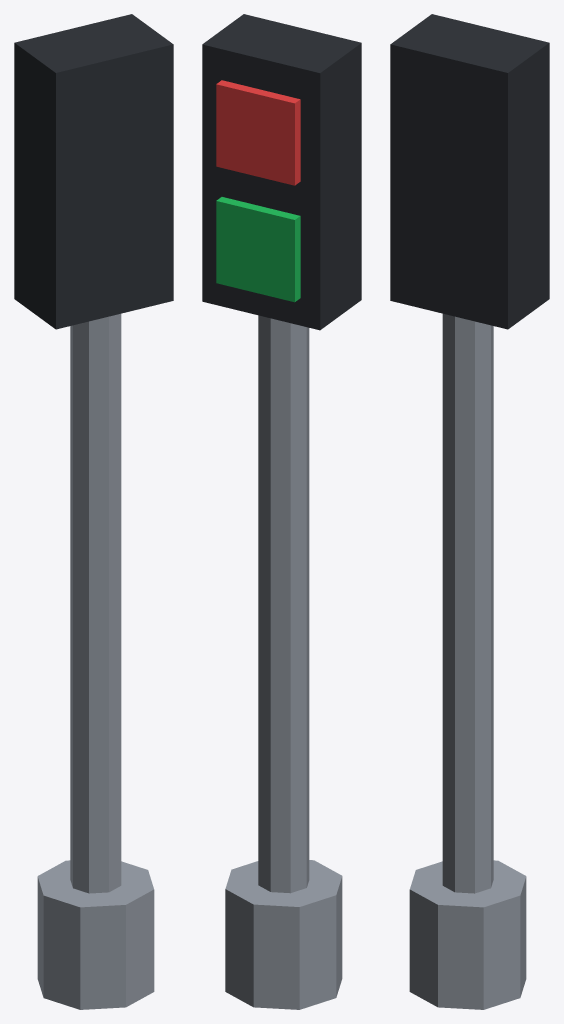
The model's file is traffic_light_ped.glb.
3 views of the same model, side by side, from view 1: azimuth 30°, elevation 25°; view 2: azimuth 150°, elevation 25°; view 3: azimuth 330°, elevation 25° (orthographic).
Visible parts, largest first — view 1: Body; view 2: Body, LampGreen, LampRed; view 3: Body.
Boxes of the visible parts, x1,y1,x2,y2 form: Body: [14, 14, 173, 1009]; Body: [202, 14, 361, 1009]; LampGreen: [216, 197, 300, 302]; LampRed: [216, 80, 300, 185]; Body: [390, 14, 549, 1009].
Size of the model in its own units: 0.36 by 2.75 by 0.32.
